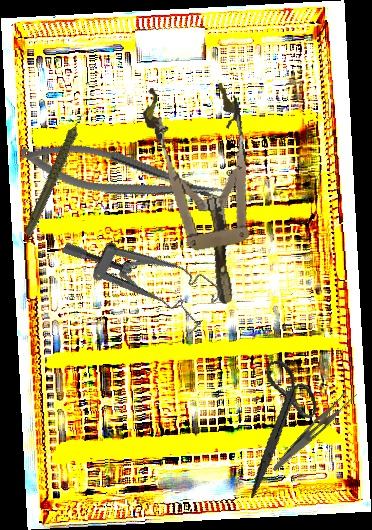Dressing Forceps: (271, 383, 359, 481)
Handpiece: (1, 110, 113, 238)
Iris Scissors: (220, 353, 335, 499)
Needle Holder: (16, 129, 228, 223)
Speculum: (138, 73, 273, 313), (59, 197, 226, 347)
